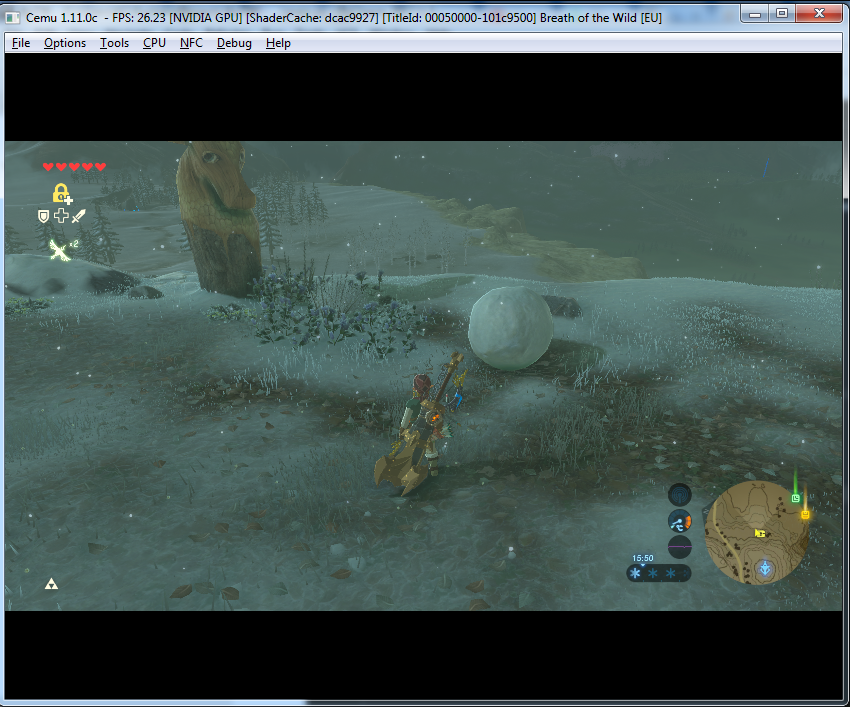link: (377, 347, 465, 501)
snowball: (457, 284, 573, 373)
totem: (171, 137, 268, 302)
